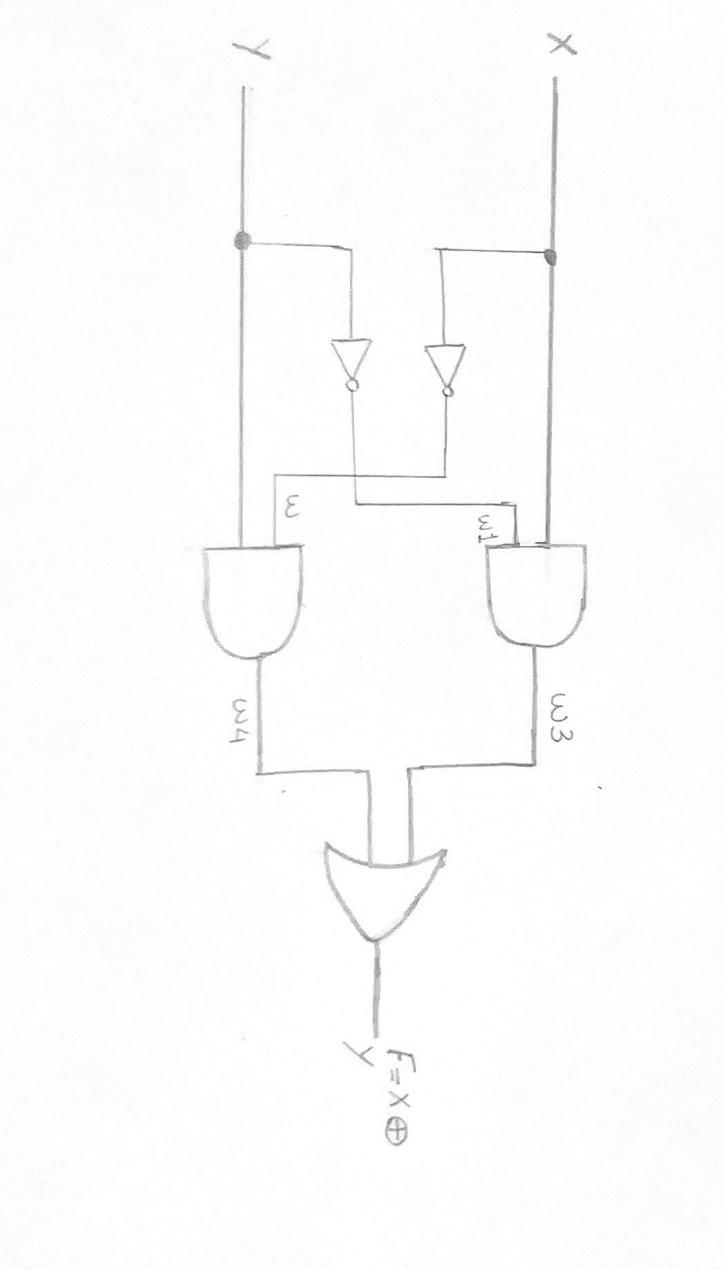AND: (183, 530, 330, 678), (480, 535, 599, 655)
NOT: (313, 320, 391, 408), (408, 325, 482, 409)
OR: (293, 825, 468, 954)
